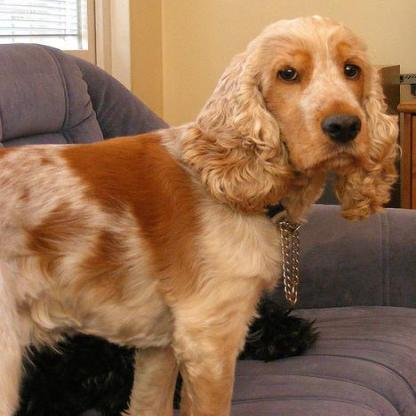cocker_spaniel: (0, 13, 400, 414)
